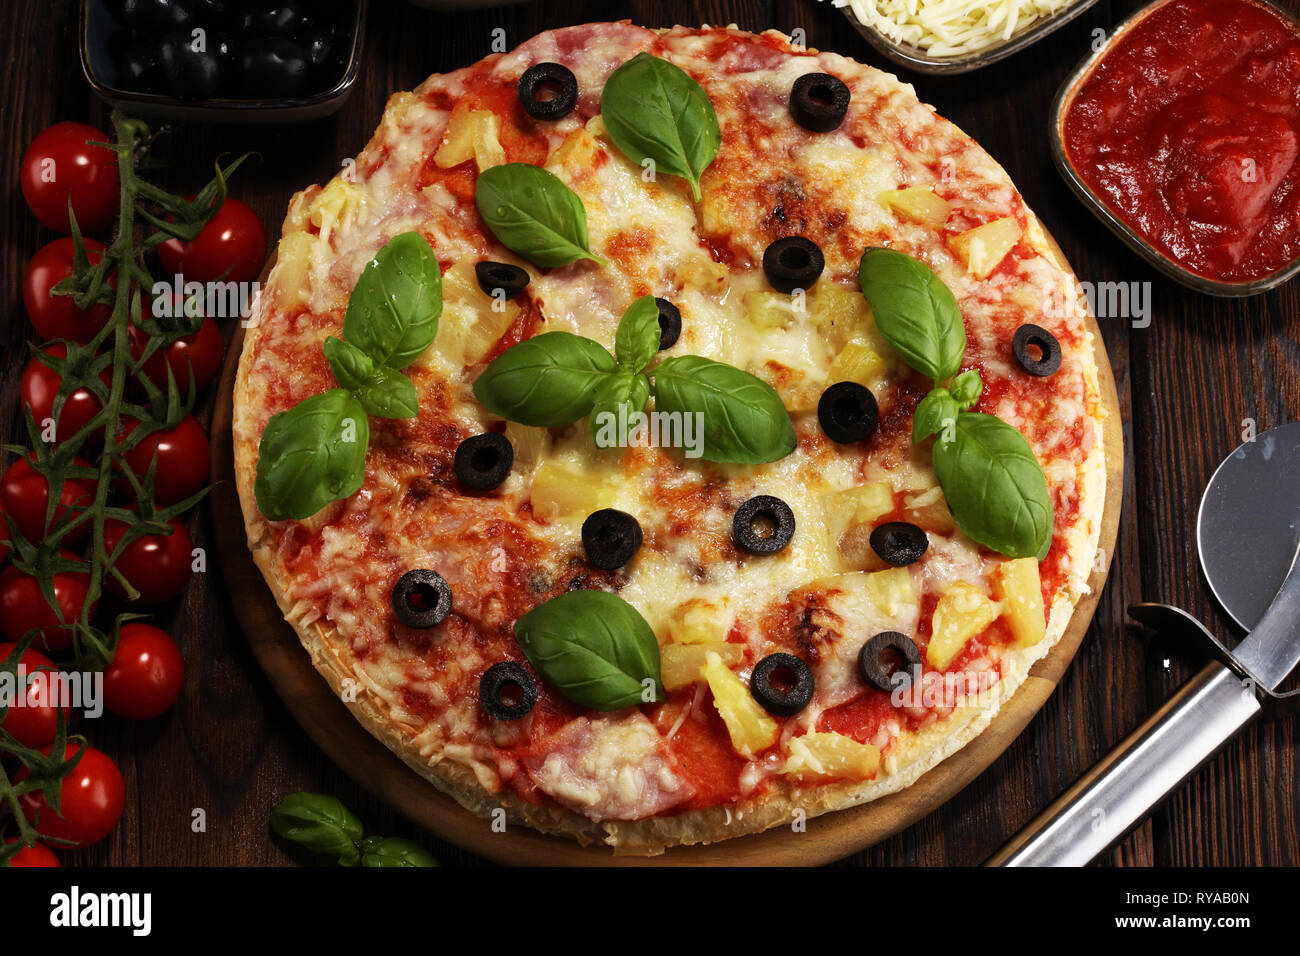Ham: (542, 718, 701, 819)
Olives: (816, 374, 883, 448), (390, 571, 461, 630), (575, 510, 643, 568), (767, 230, 825, 298), (748, 654, 814, 713), (472, 658, 534, 718), (733, 495, 793, 553), (455, 433, 512, 491), (868, 516, 930, 568), (793, 70, 851, 125), (521, 62, 577, 116), (857, 634, 920, 682), (637, 298, 686, 348), (474, 255, 531, 298), (1014, 328, 1059, 371)
Pineapple: (695, 658, 781, 739), (930, 595, 995, 669), (527, 463, 610, 519), (780, 739, 883, 778), (954, 212, 1016, 276), (433, 112, 505, 167), (1004, 553, 1046, 645), (274, 232, 321, 304), (877, 184, 949, 227), (309, 175, 361, 223)
Pizza: (221, 9, 1109, 847), (493, 26, 656, 96)
